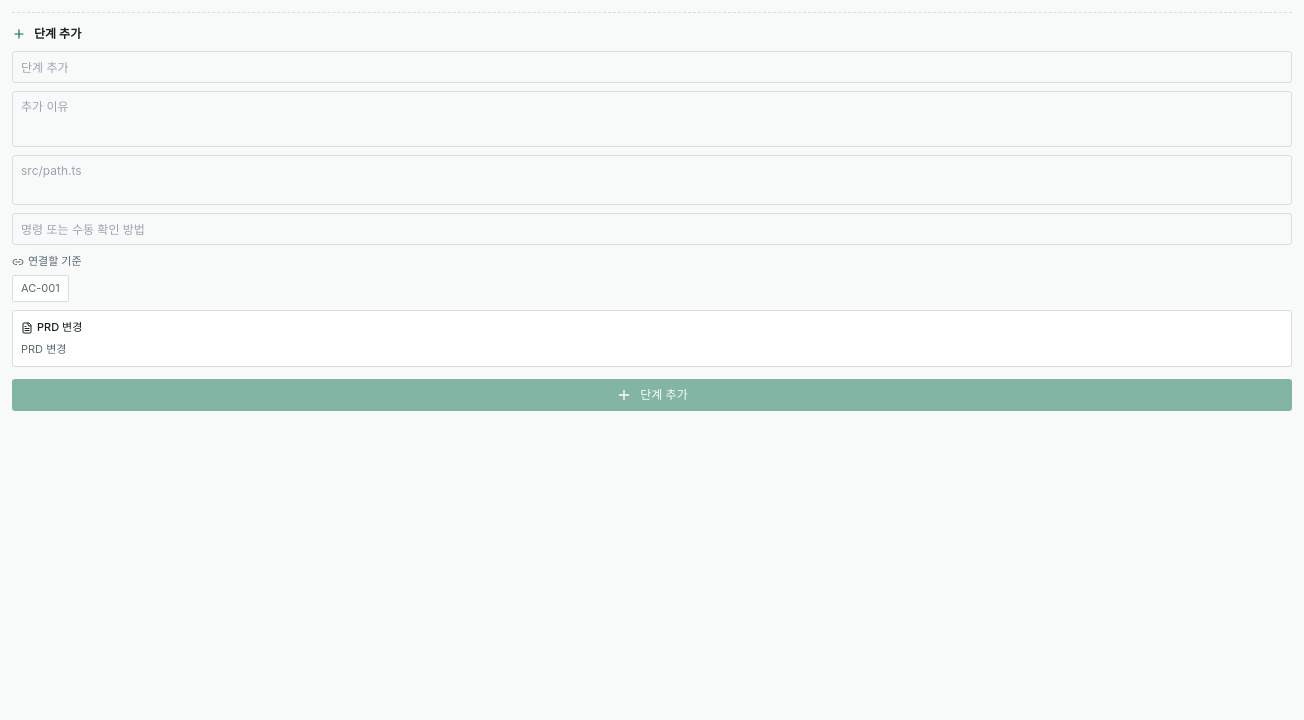
Scenario: PlanAddStepPanel scope-expansion supervisor cards › places a supervisor-backed scope card near add-step without static fallback text
In the field with test id "plan-add-step-title": {"x": 652, "y": 67} [12, 51, 1292, 83], type "Analytics dashboard"
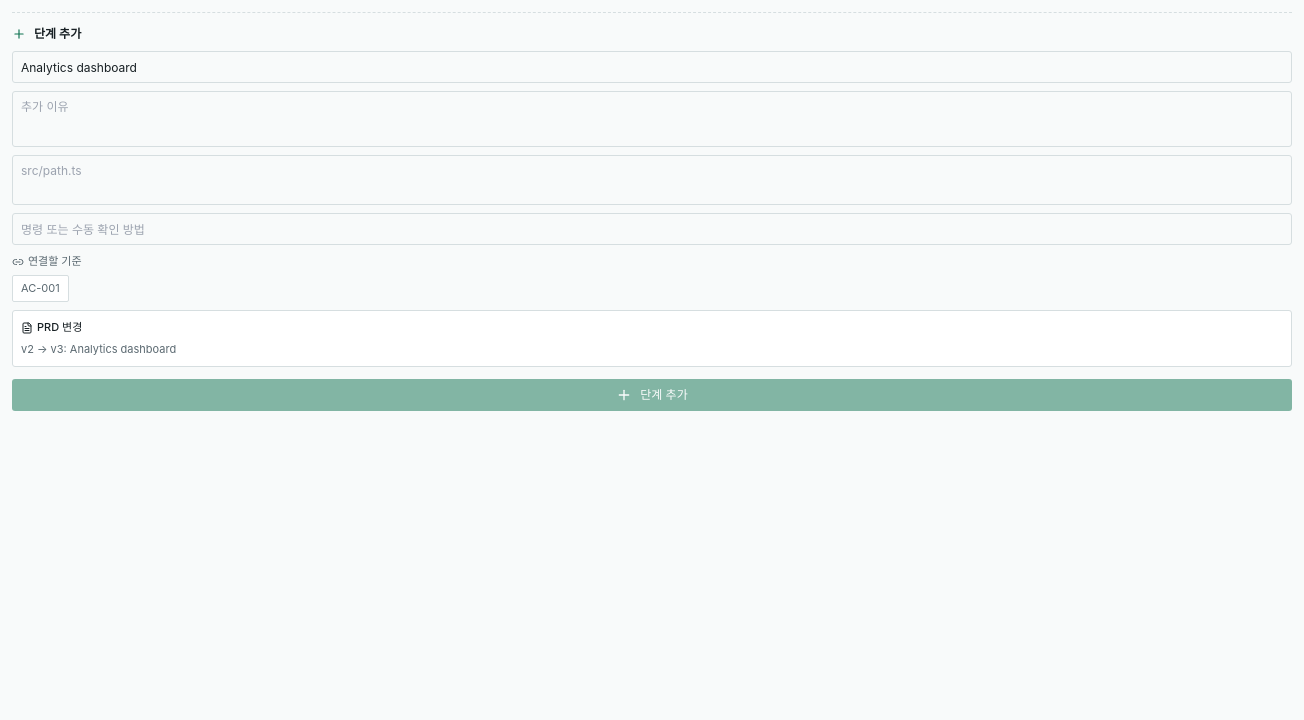
In the text box with test id "plan-add-step-reason": {"x": 652, "y": 119} [12, 91, 1292, 147], type "사용자가 사용량을 볼 수 있게 한다."
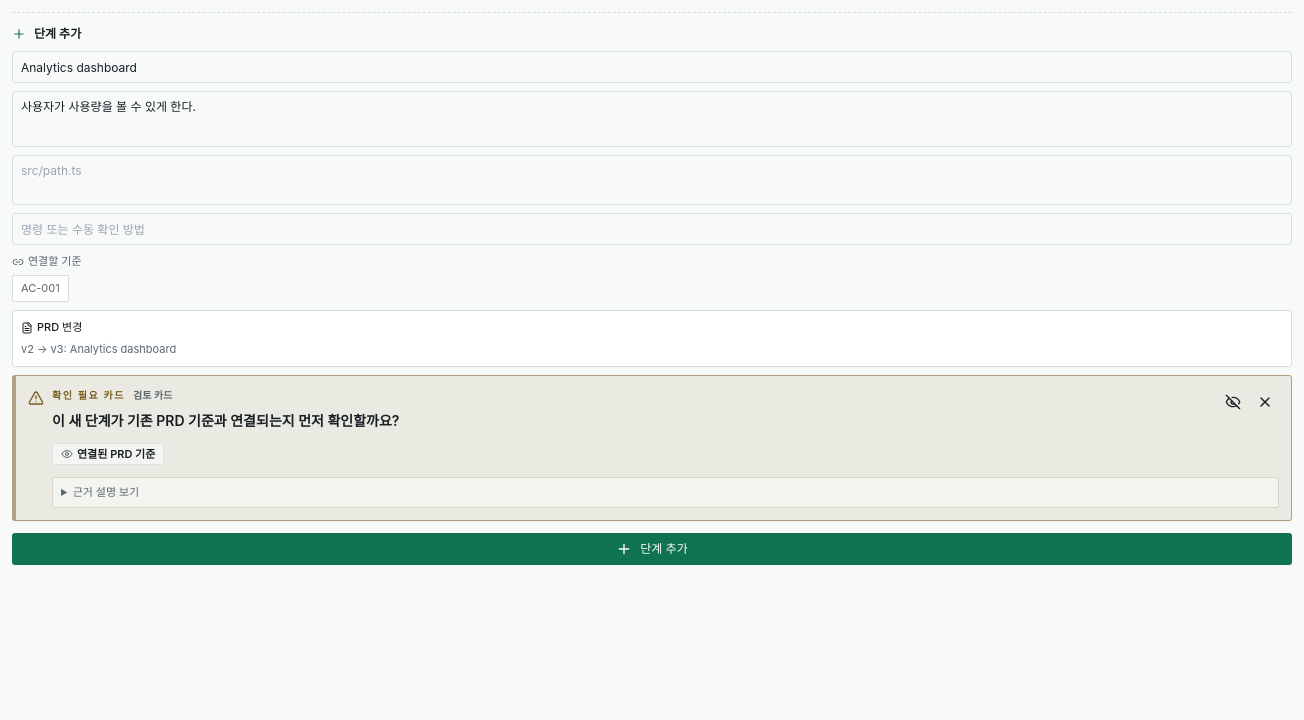
Now the text with test id "provocation-focal-question" shows "기존 PRD", box [52, 412, 400, 429]
